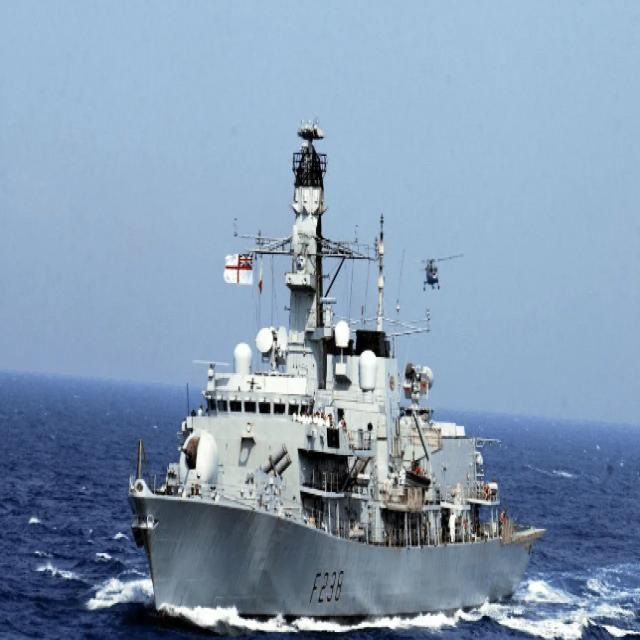navalvessels: (128, 110, 550, 618)
